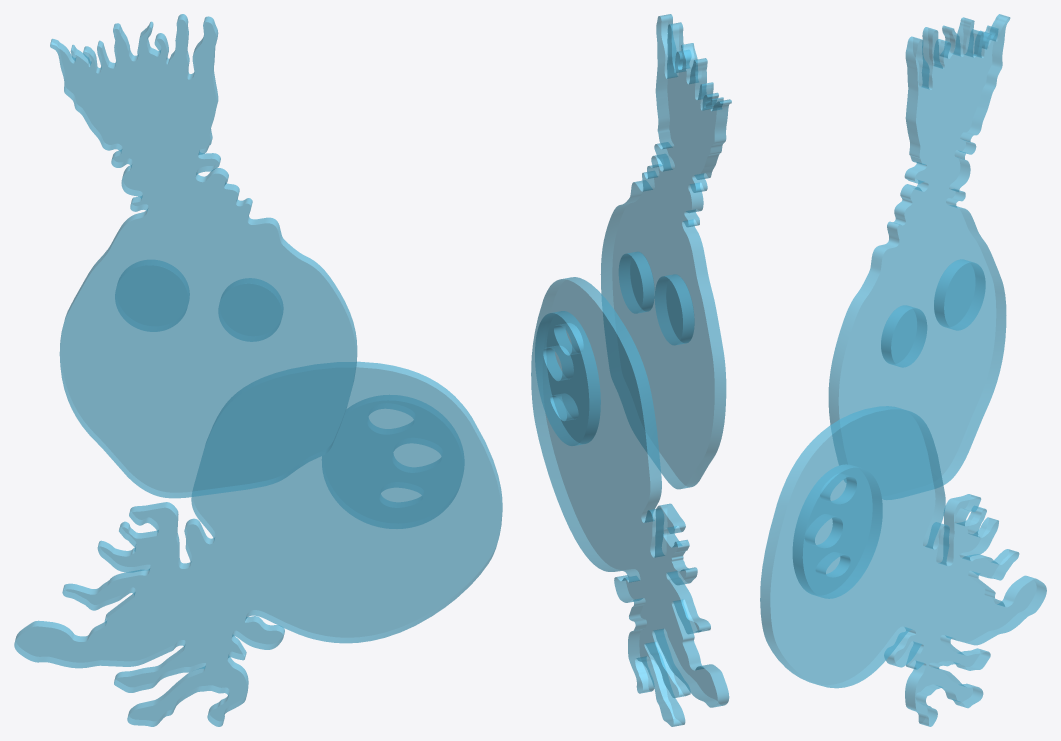
3 views of the same model, side by side, from view 1: azimuth 30°, elevation 25°; view 2: azimuth 150°, elevation 25°; view 3: azimuth 270°, elevation 25° (orthographic). The views are drawn at different scales.
Visible parts, largest first — view 1: 2-GREENBLUE; view 2: 2-GREENBLUE; view 3: 2-GREENBLUE.
Part boxes in pixels (x1,y1,x2,y2): 2-GREENBLUE: (14,14,502,726); 2-GREENBLUE: (531,14,731,726); 2-GREENBLUE: (760,14,1046,726).
Bounding box in the file's own units: 21.2 × 41.7 × 15.86.
